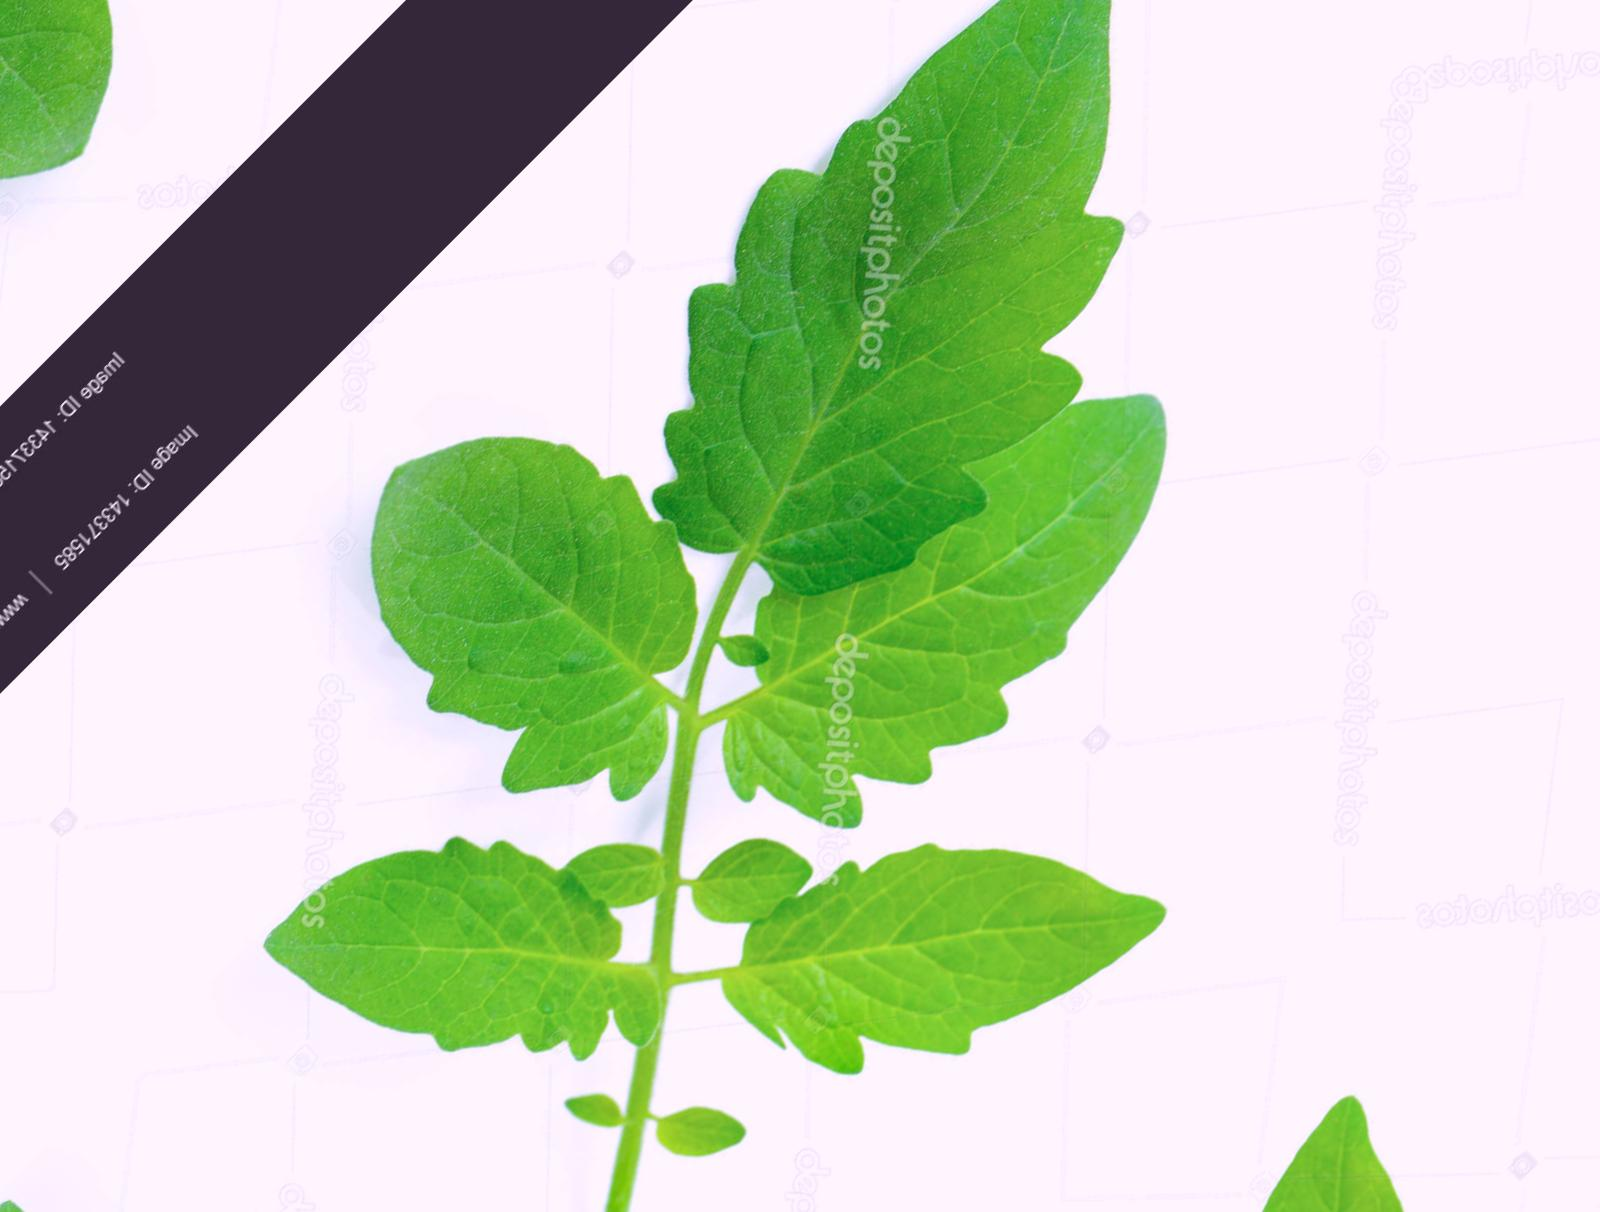Tomato leaf: (545, 0, 1334, 667), (621, 276, 1256, 912), (662, 672, 1218, 1212), (266, 327, 807, 870), (214, 723, 689, 1197)
